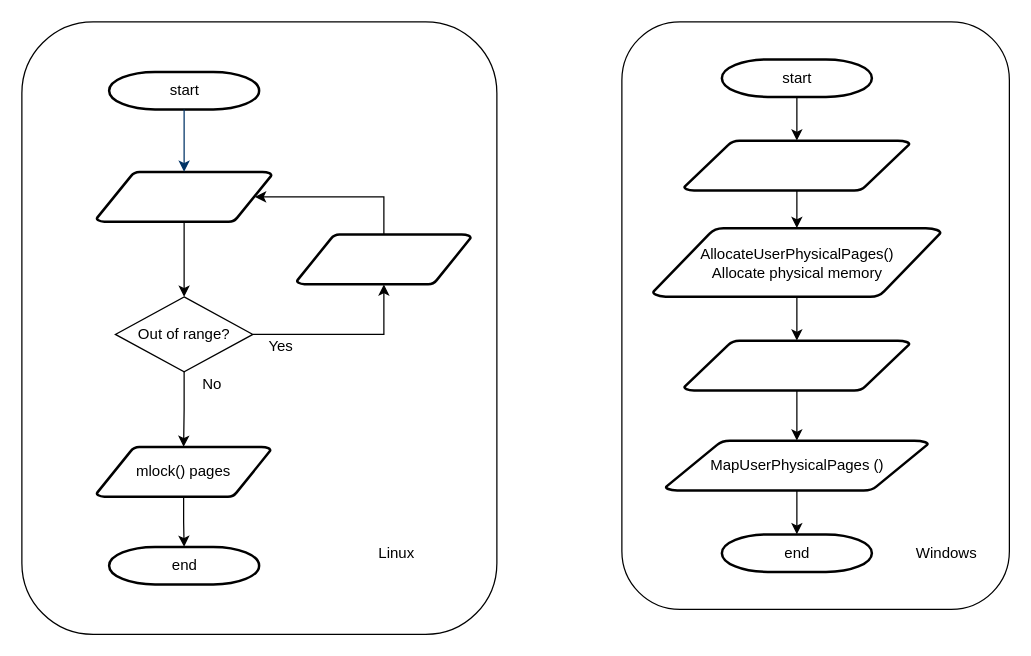
Image size: 1031x656. Some labels were removed from this diagram. Here are the shapes that lost their labels. From the top down, the centre of each, then its label:
At point 796,165: "Acquire Privilege".
At point 183,196: "malloc() memory".
At point 383,258: "Reduce Size".
At point 796,365: "VirtualAlloc() Alloc virtual Address".
